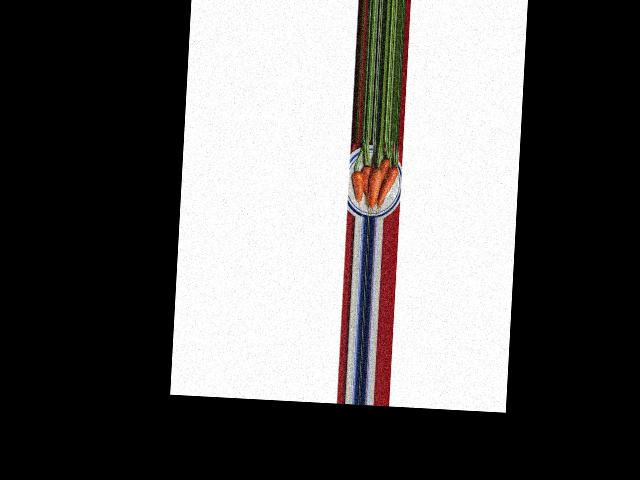carrot: (348, 167, 366, 202)
